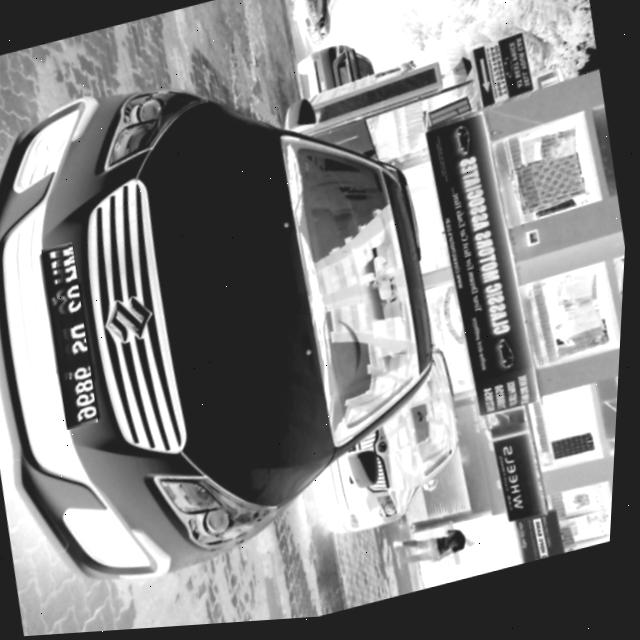Non_registered: (36, 242, 109, 433)
